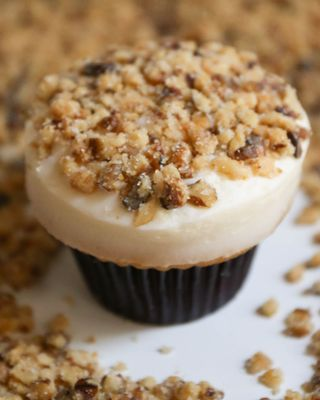sushi: (15, 6, 311, 277)
